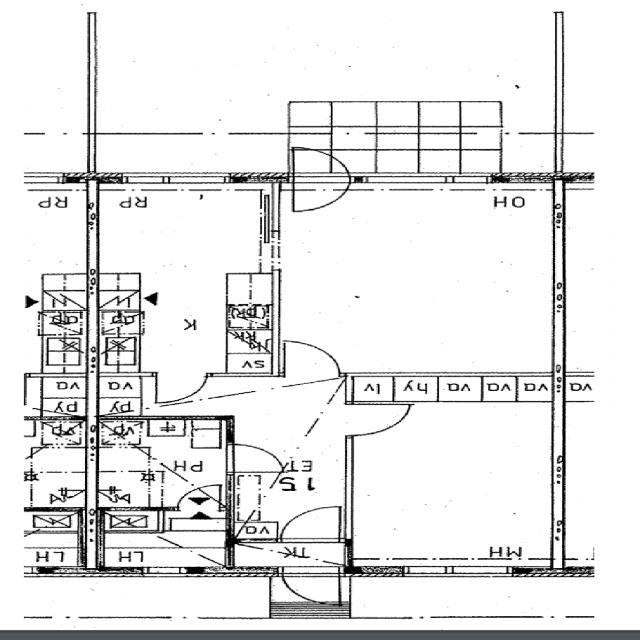door: (282, 566, 338, 608), (292, 142, 348, 184), (292, 173, 348, 214), (280, 507, 338, 542), (284, 342, 338, 376), (345, 404, 406, 434), (226, 444, 282, 471), (156, 372, 204, 403), (178, 484, 218, 512)
